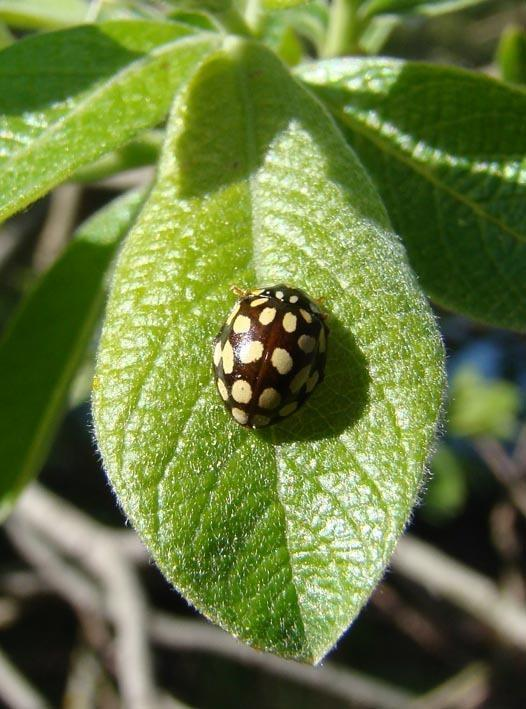ladybug: (207, 281, 339, 437)
